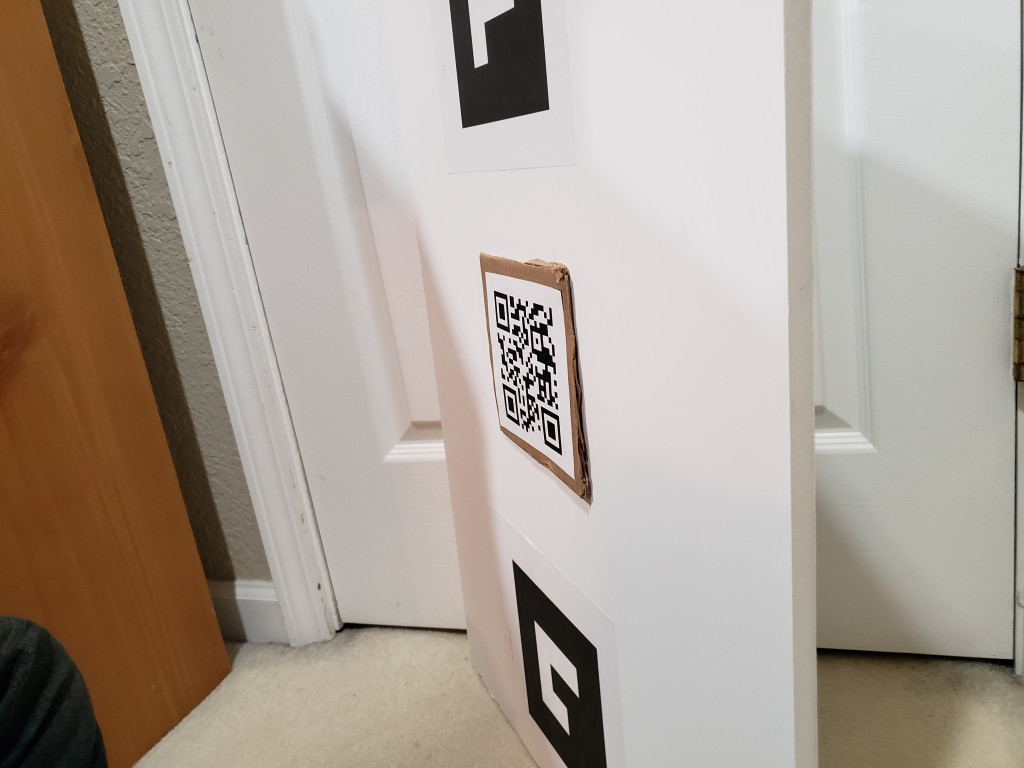QR_CODE: (485, 279, 584, 465)
